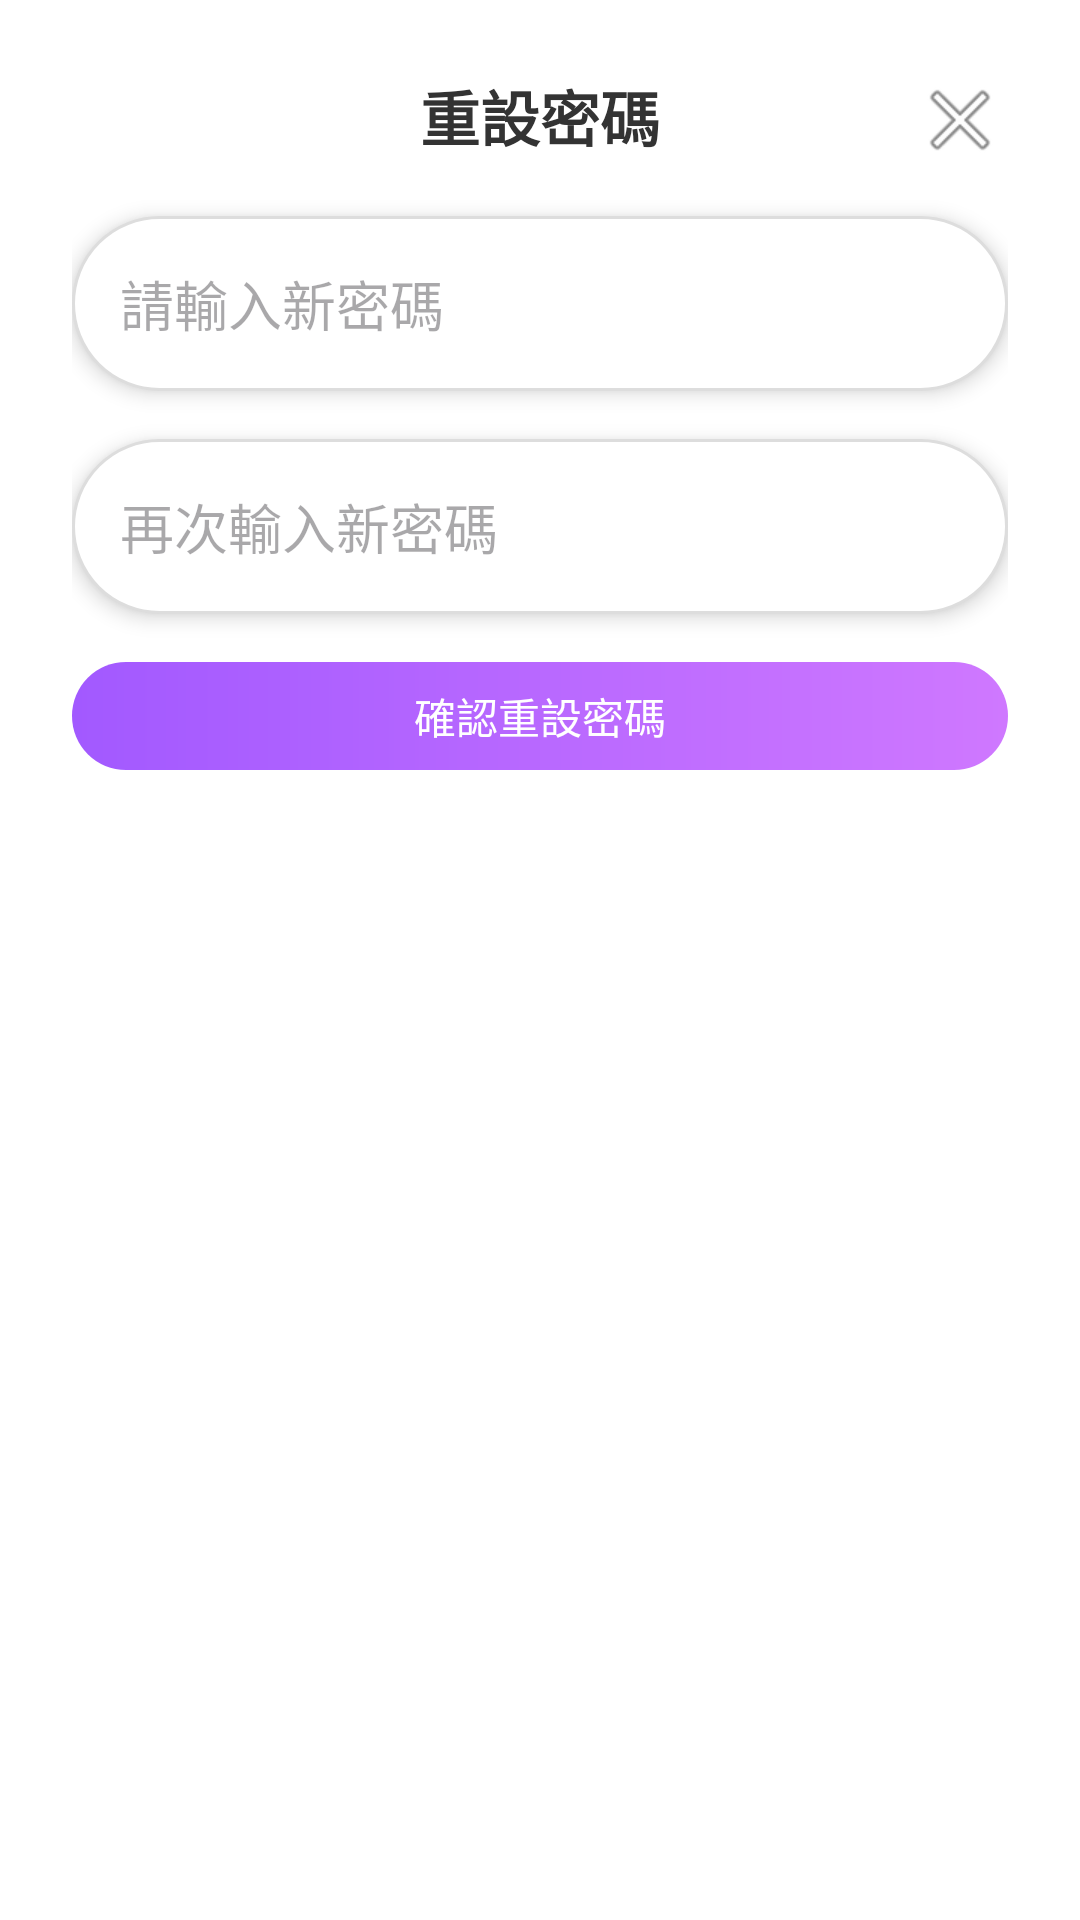

Where to tap for icons on this 1080x1920 app screen, as point (x, y):
關閉: point (960, 120)
